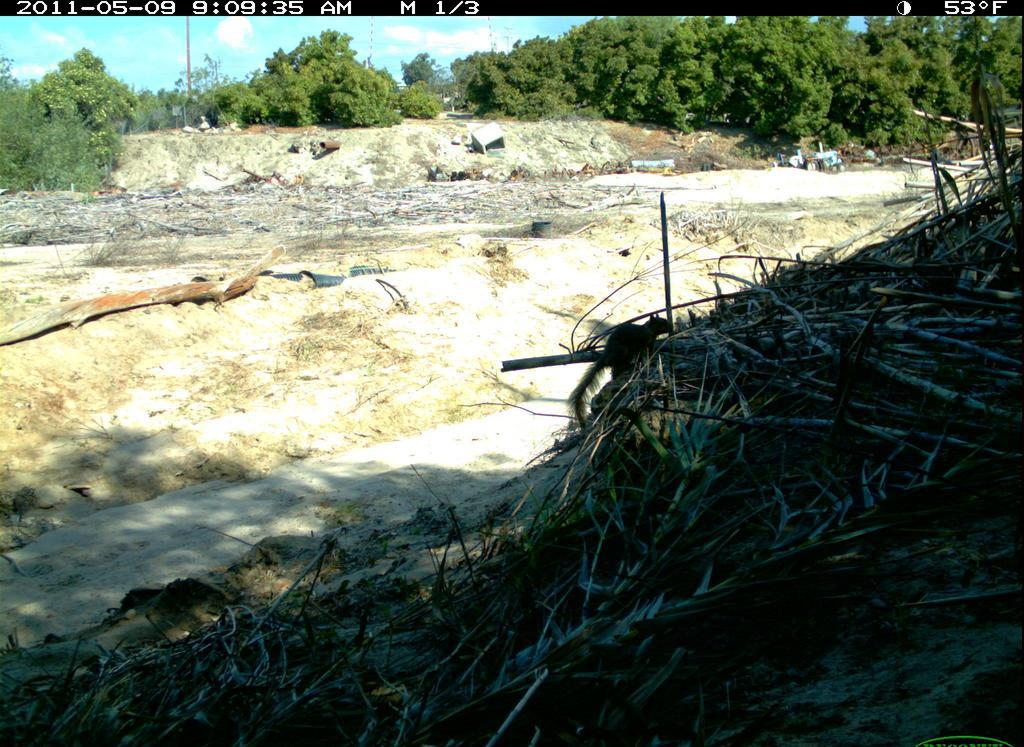squirrel: (543, 299, 692, 445)
